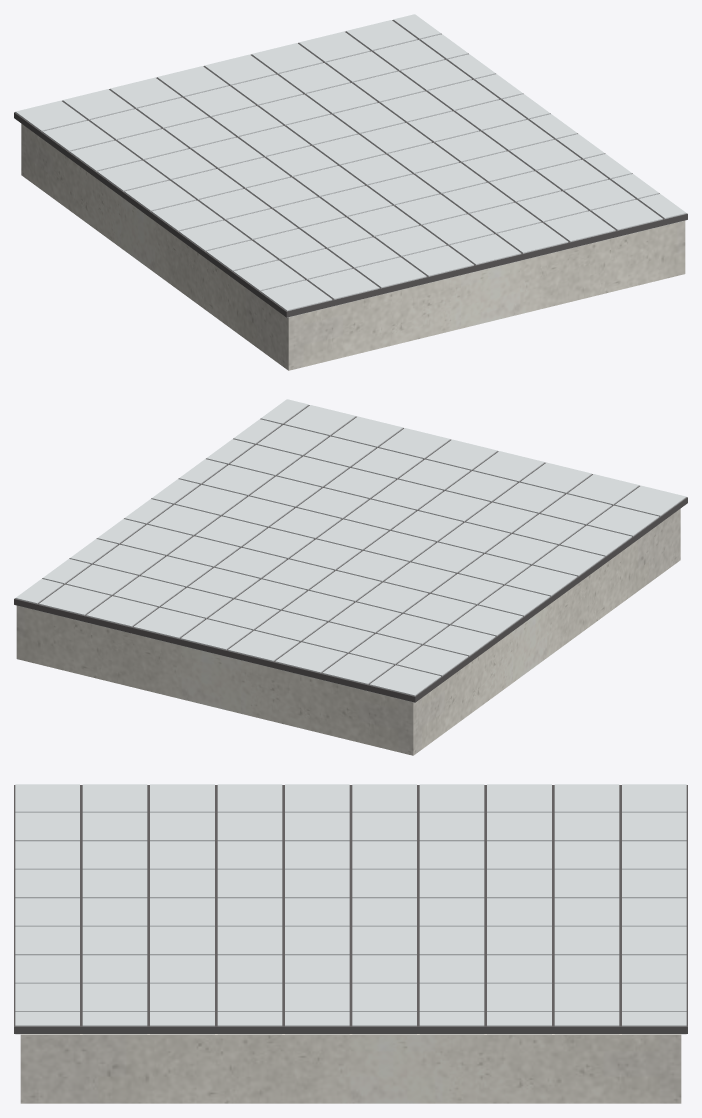
The model's file is floor_tile_bath_e0100.glb.
3 renders of one model, top to bottom at view 1: azimuth 30°, elevation 25°; view 2: azimuth 150°, elevation 25°; view 3: azimuth 270°, elevation 25°, orthographic. The views are drawn at different scales.
Parts seen in each view (by area): view 1: floor_tile_bath_e0100_tile, floor_tile_bath_e0100_plaster, floor_tile_bath_e0100_dark; view 2: floor_tile_bath_e0100_tile, floor_tile_bath_e0100_plaster, floor_tile_bath_e0100_dark; view 3: floor_tile_bath_e0100_tile, floor_tile_bath_e0100_plaster, floor_tile_bath_e0100_dark.
Part boxes in pixels (x1=…): floor_tile_bath_e0100_tile: x1=15, y1=14, x2=686, y2=317; floor_tile_bath_e0100_plaster: x1=21, y1=124, x2=685, y2=370; floor_tile_bath_e0100_dark: x1=14, y1=20, x2=687, y2=317; floor_tile_bath_e0100_tile: x1=15, y1=399, x2=686, y2=702; floor_tile_bath_e0100_plaster: x1=16, y1=509, x2=680, y2=755; floor_tile_bath_e0100_dark: x1=14, y1=405, x2=687, y2=702; floor_tile_bath_e0100_tile: x1=15, y1=784, x2=686, y2=1034; floor_tile_bath_e0100_plaster: x1=20, y1=1034, x2=681, y2=1103; floor_tile_bath_e0100_dark: x1=14, y1=785, x2=687, y2=1033.
Size of the model in its own units: 1.7 by 0.255 by 2.
Materials: 3 (1 with a texture image).
